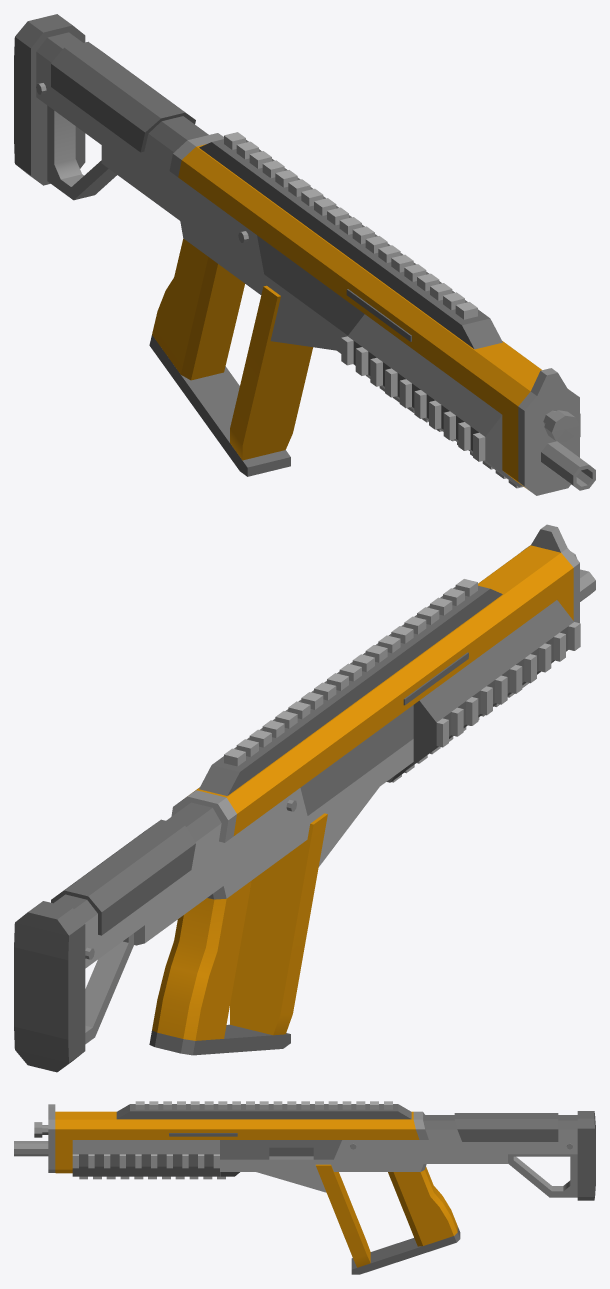
Rendered from uploads_files_860528_AR_A2_Frame_mesh.fbx.
The picture shows the model from 3 angles, top to bottom: view 1: azimuth 30°, elevation 25°; view 2: azimuth 150°, elevation 25°; view 3: azimuth 270°, elevation 25°; orthographic projection. The views are drawn at different scales.
Visible parts, largest first — view 1: AR_A2_Frame_mesh; view 2: AR_A2_Frame_mesh; view 3: AR_A2_Frame_mesh.
Boxes of the visible parts, x1,y1,x2,y2 form: AR_A2_Frame_mesh: [14, 14, 595, 495]; AR_A2_Frame_mesh: [14, 524, 595, 1072]; AR_A2_Frame_mesh: [14, 1101, 595, 1274].
Bounding box in the file's own units: 7.3 × 21.21 × 67.44.
